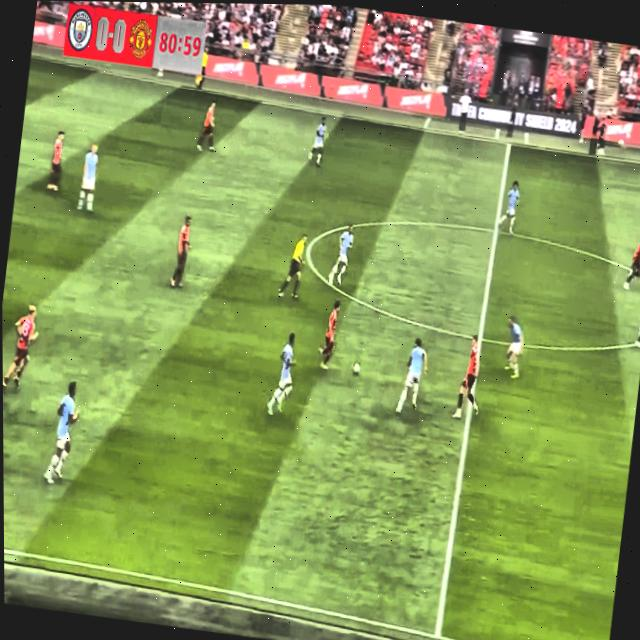ball: (348, 360, 365, 381)
players: (42, 378, 85, 489), (2, 301, 46, 404), (258, 330, 301, 425), (449, 326, 487, 425), (312, 293, 354, 377), (324, 211, 359, 294), (166, 211, 198, 294), (42, 119, 73, 202), (192, 89, 227, 161), (500, 311, 530, 385), (73, 147, 103, 218), (300, 107, 331, 169), (494, 173, 525, 233), (620, 227, 640, 307), (631, 293, 640, 355)
refree: (274, 224, 311, 307), (188, 33, 213, 99)
